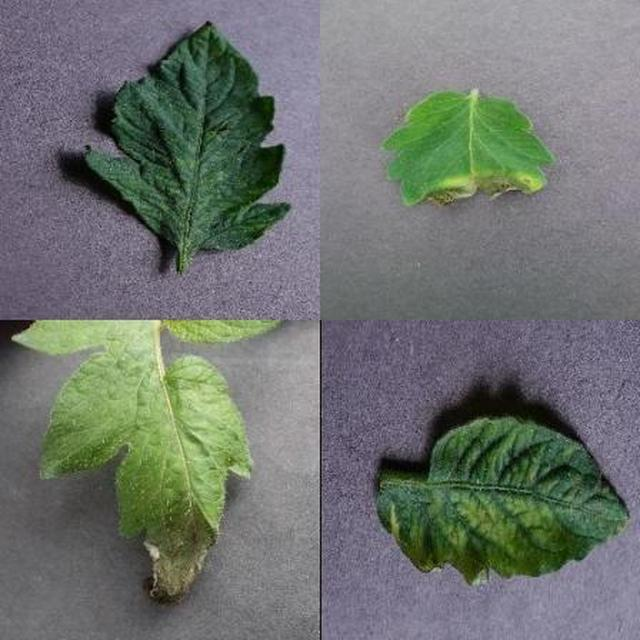Mosaic Virus Leaf: (191, 179, 640, 640)
